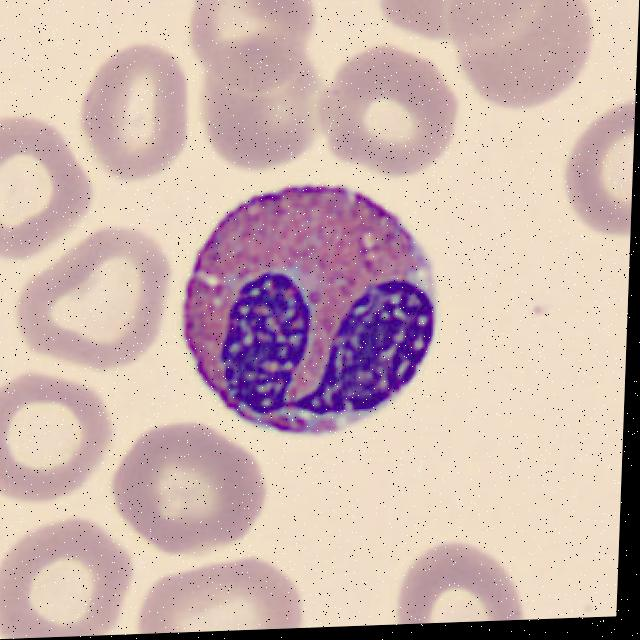eosinophil: (175, 175, 447, 446)
rbc: (7, 226, 175, 381), (109, 417, 264, 556), (205, 25, 336, 186), (317, 38, 469, 167), (442, 0, 604, 107), (0, 362, 114, 503), (0, 101, 104, 255), (0, 520, 132, 639), (80, 39, 191, 174), (548, 92, 636, 249), (139, 560, 307, 634), (389, 540, 527, 625), (359, 0, 541, 51)
